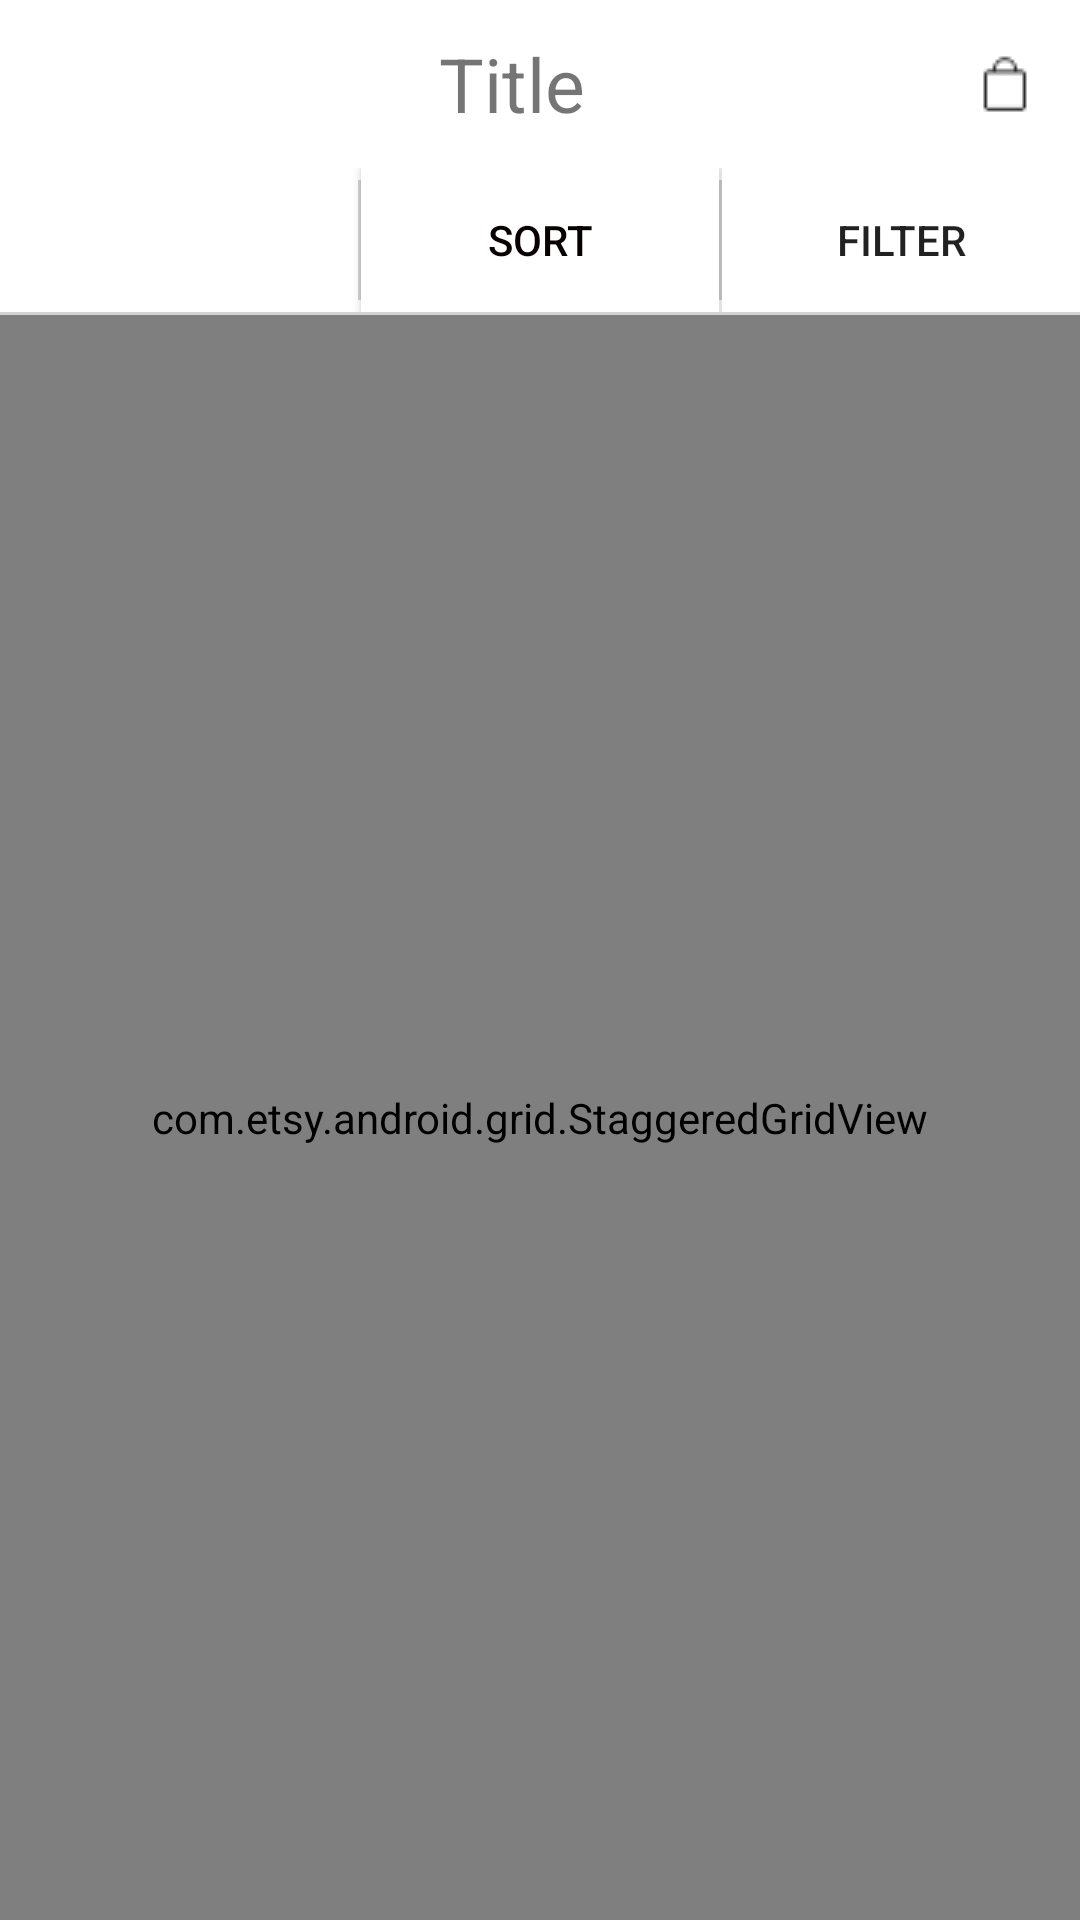

Screen size 1080×1920. Icon name, then its box in pixels as (x1, y1, x2, y2):
bag: (983, 56, 1027, 112)
